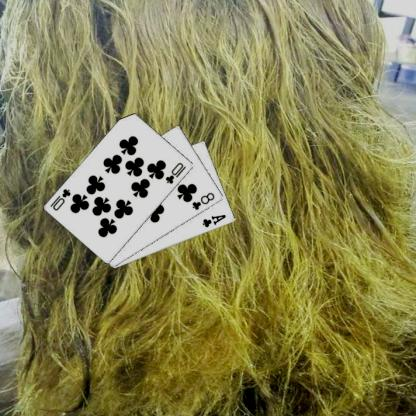10C: (50, 186, 74, 212), (165, 160, 189, 185)
8C: (192, 190, 218, 211)
AC: (202, 212, 229, 229)
